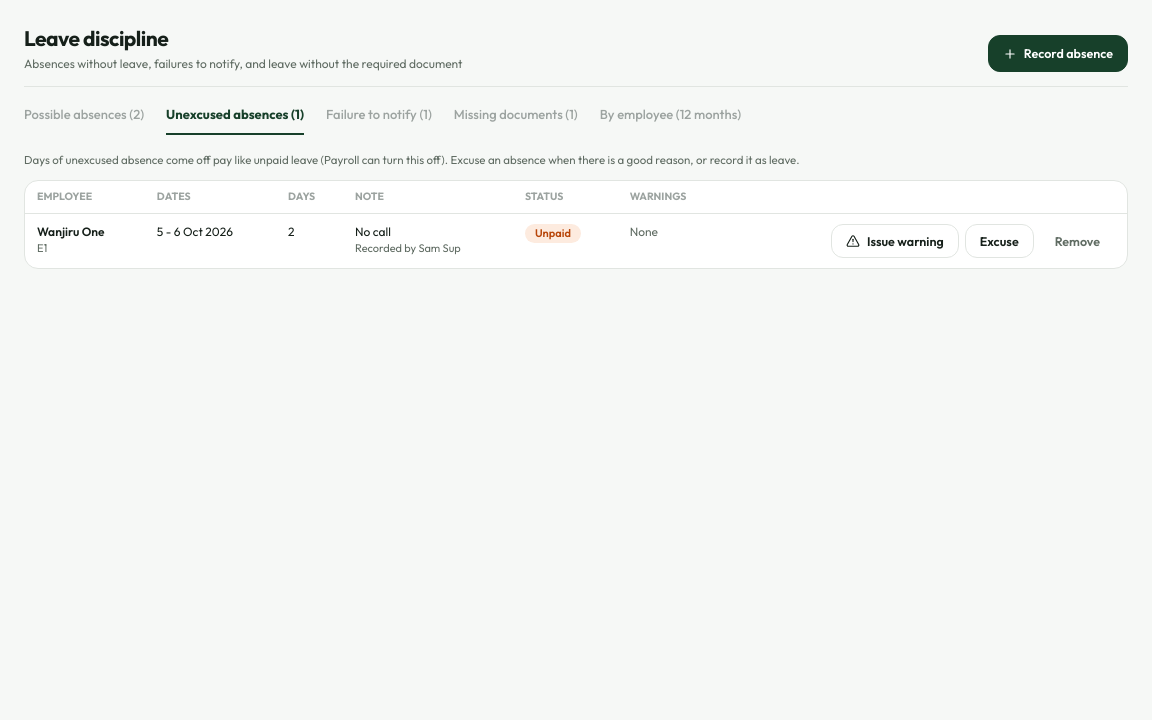
Test: Possible absences › dismisses one only with a reason
The width and height of the screenshot is (1152, 720).
Later steps or results of the test are not shown.
Click the button "Possible absences (2)" at (84, 120), box [24,105,144,134]
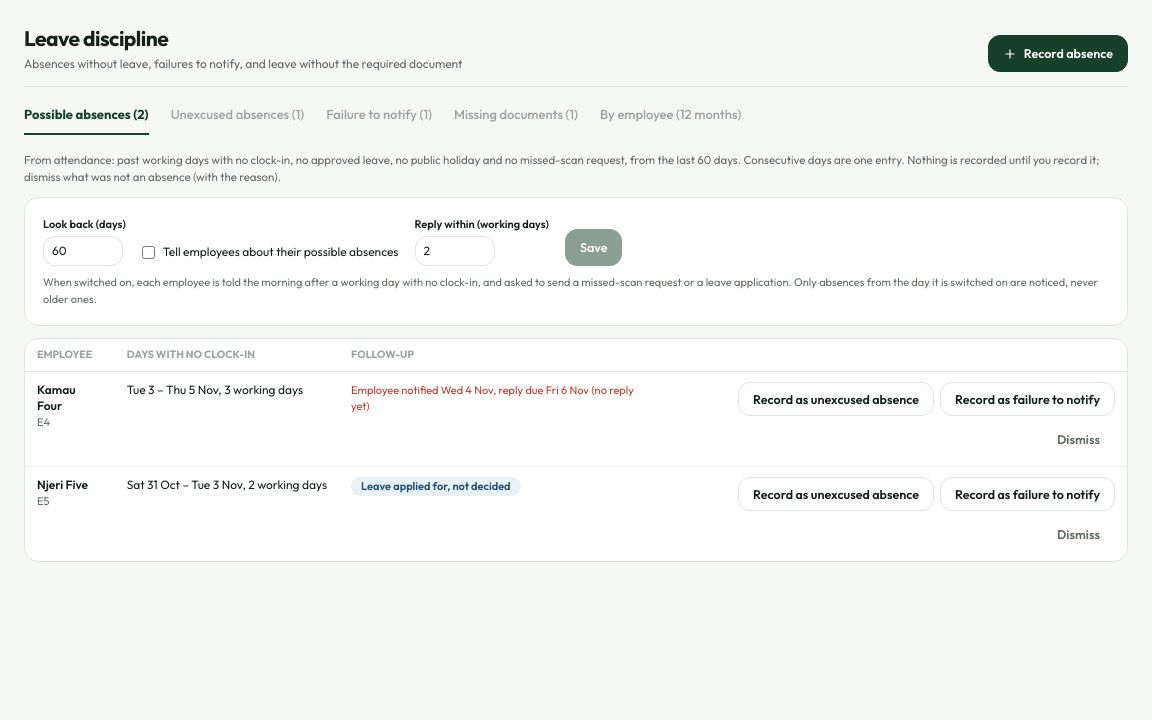
Click the button with aria-label "Dismiss: Kamau Four, 3 - 5 Nov 2026" at (1078, 439), box [1042,422,1115,456]
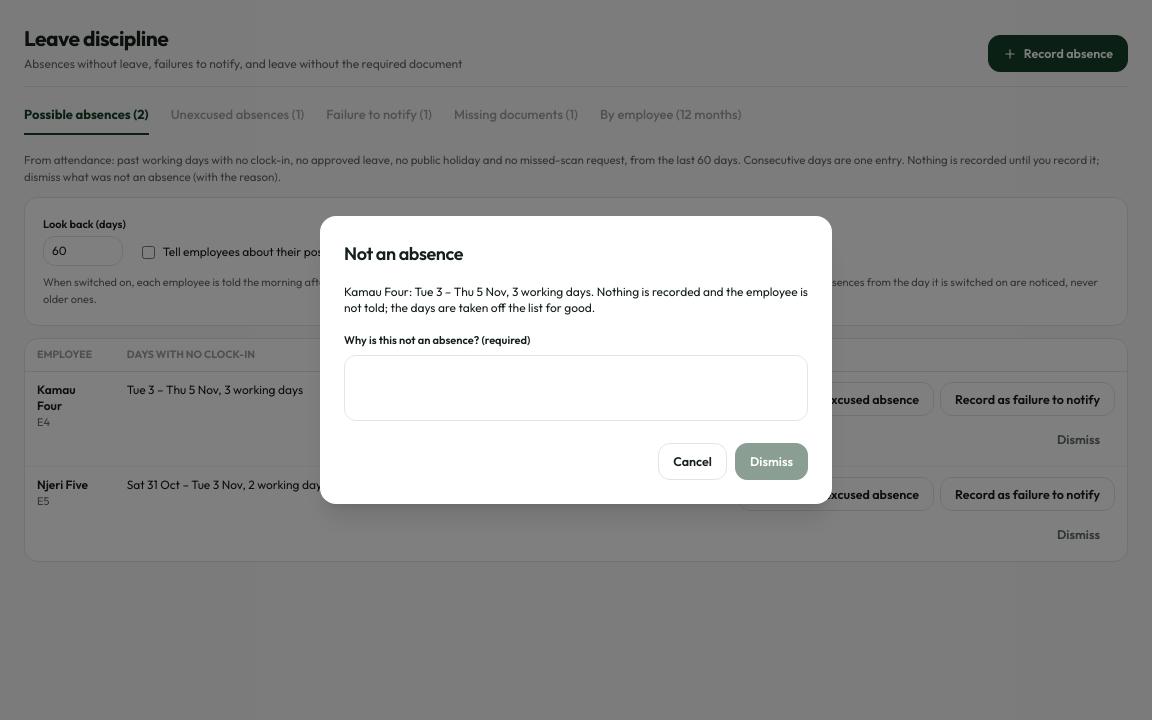
Expected: the button "Dismiss" is disabled, [735,443,808,480]
